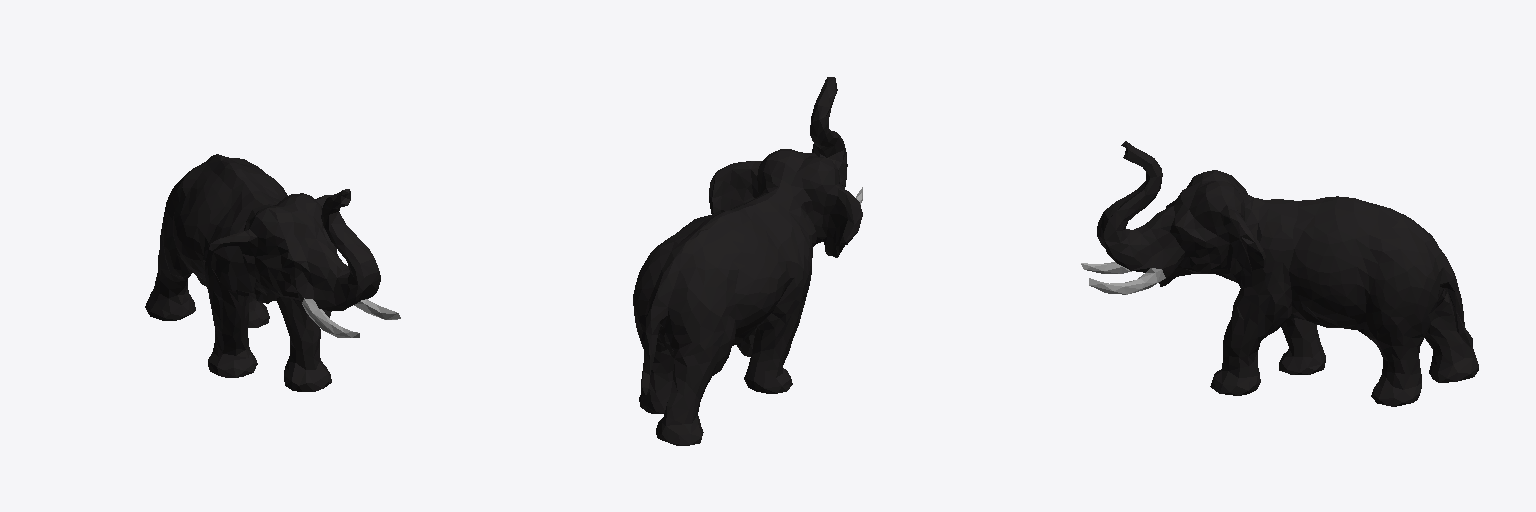
Rendered from elefante.obj.
3 views of the same model, side by side, from view 1: azimuth 30°, elevation 25°; view 2: azimuth 150°, elevation 25°; view 3: azimuth 270°, elevation 25° (orthographic).
Parts seen in each view (by area): view 1: Model.001; view 2: Model.001; view 3: Model.001.
Part boxes in pixels (x1,y1,x2,y2): Model.001: (145, 154, 400, 391); Model.001: (633, 77, 862, 445); Model.001: (1081, 141, 1478, 406).
Bounding box in the file's own units: 1.2 × 1.94 × 2.92.